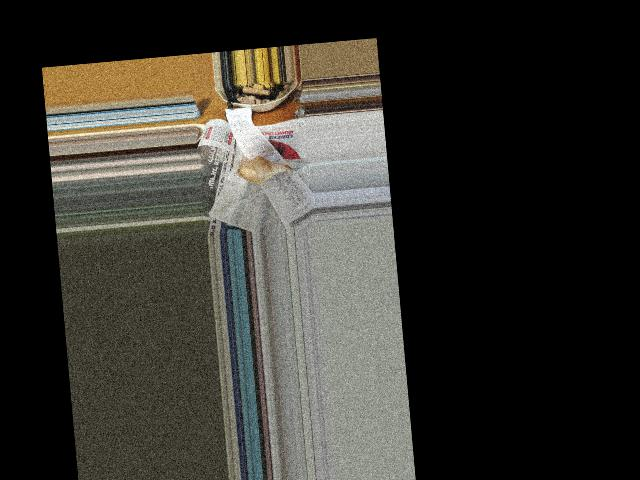onion: (238, 156, 275, 182)
